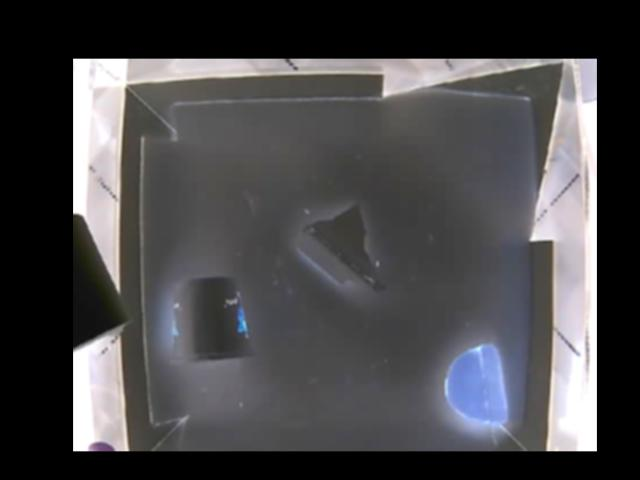China: (296, 205, 381, 295)
Cup: (168, 275, 254, 362)
Potato: (443, 343, 507, 424)
